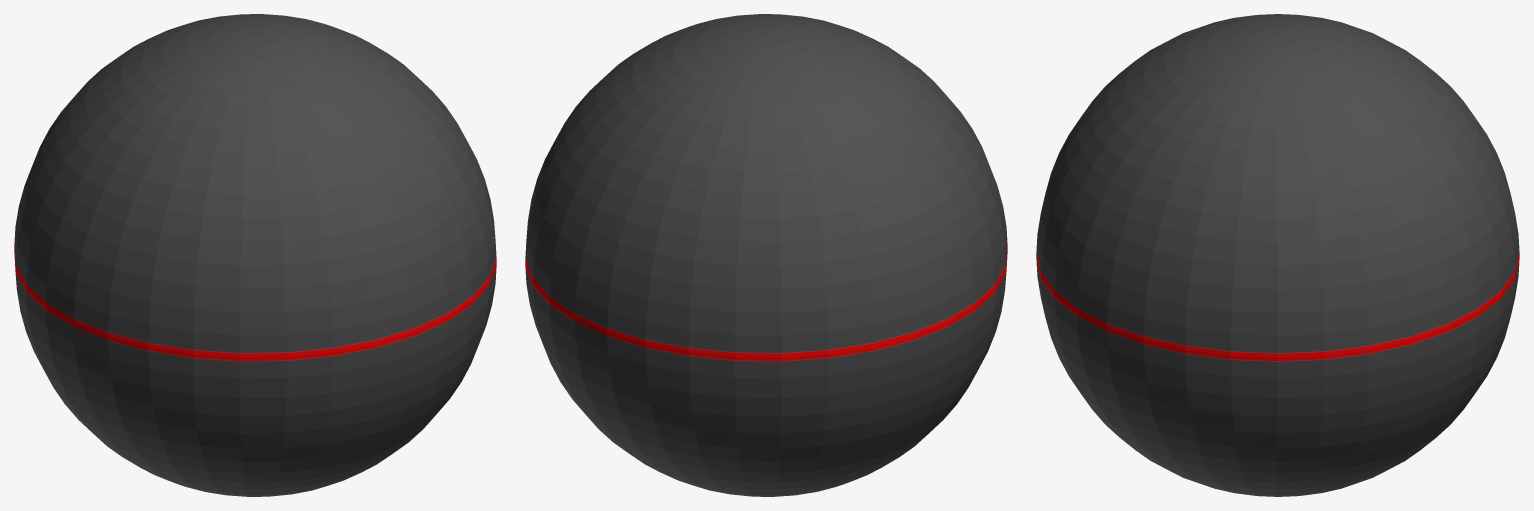
Rendered from Debug_Sphere.obj.
3 views of the same model, side by side, from view 1: azimuth 30°, elevation 25°; view 2: azimuth 150°, elevation 25°; view 3: azimuth 270°, elevation 25° (orthographic).
Visible parts, largest first — view 1: Debug_Sphere; view 2: Debug_Sphere; view 3: Debug_Sphere.
Part boxes in pixels (left/top/right/bottom): Debug_Sphere: left=14, top=14, right=496, bottom=496; Debug_Sphere: left=525, top=14, right=1007, bottom=496; Debug_Sphere: left=1036, top=14, right=1519, bottom=496.
Bounding box in the file's own units: 1 × 1 × 1.
